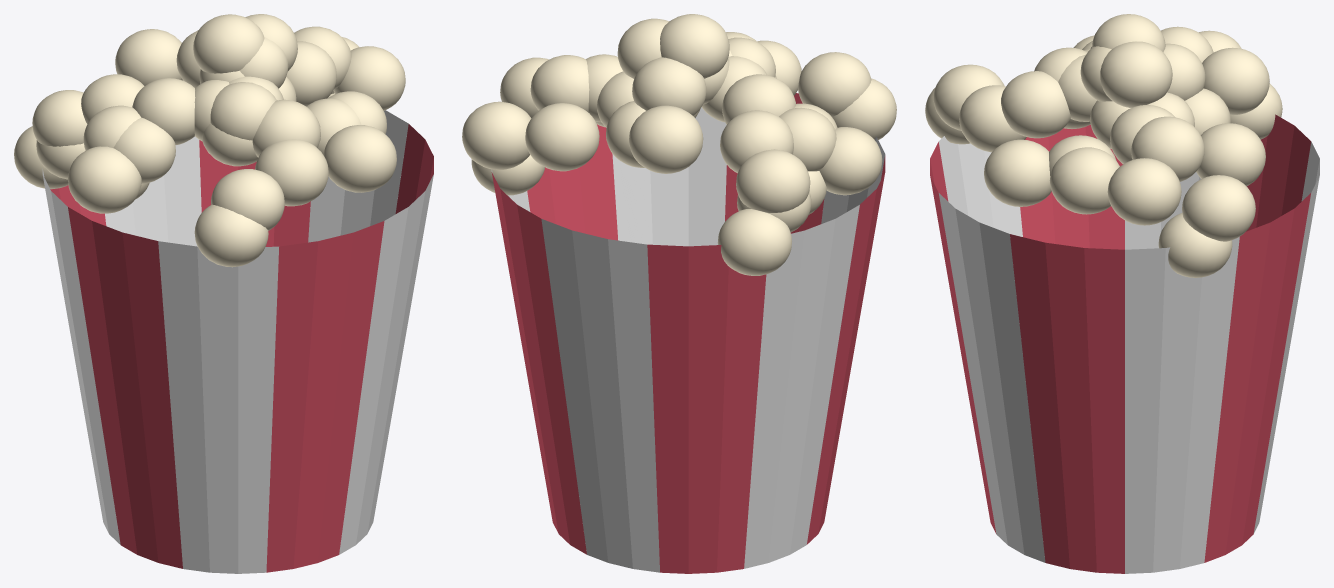
File: deco_balde_crispetas.glb
3 views of the same model, side by side, from view 1: azimuth 30°, elevation 25°; view 2: azimuth 150°, elevation 25°; view 3: azimuth 270°, elevation 25° (orthographic).
Parts seen in each view (by area): view 1: franja balde 6.001, franja balde 7.001, franja balde 5.001, franja balde 8.001, franja balde 4.001, franja balde 2.001, franja balde 0.001, crispeta 10.001, crispeta 27.001, crispeta 12.001, crispeta 8.001, crispeta 14.001 (+24 smaller); view 2: franja balde 3.001, franja balde 2.001, franja balde 4.001, franja balde 1.001, franja balde 8.001, franja balde 5.001, franja balde 9.001, crispeta 9.001, crispeta 3.001, crispeta 23.001, crispeta 29.001, crispeta 15.001 (+22 smaller); view 3: franja balde 9.001, franja balde 0.001, franja balde 8.001, franja balde 1.001, franja balde 5.001, franja balde 3.001, franja balde 6.001, crispeta 6.001, crispeta 2.001, crispeta 15.001, crispeta 10.001, crispeta 18.001 (+24 smaller).
Part boxes in pixels (x1,y1,x2,y2): franja balde 6.001: [158, 241, 278, 573]; franja balde 7.001: [266, 221, 384, 572]; franja balde 5.001: [68, 207, 182, 568]; franja balde 8.001: [339, 175, 433, 554]; franja balde 4.001: [42, 169, 120, 544]; franja balde 2.001: [105, 136, 201, 246]; franja balde 0.001: [308, 110, 408, 242]; crispeta 10.001: [323, 125, 396, 192]; crispeta 27.001: [68, 146, 141, 213]; crispeta 12.001: [255, 139, 328, 206]; crispeta 8.001: [194, 204, 268, 267]; crispeta 14.001: [193, 14, 264, 73]; franja balde 3.001: [647, 244, 766, 573]; franja balde 2.001: [541, 219, 659, 572]; franja balde 4.001: [744, 205, 859, 568]; franja balde 1.001: [491, 172, 586, 554]; franja balde 8.001: [612, 107, 726, 246]; franja balde 5.001: [807, 155, 885, 544]; franja balde 9.001: [527, 124, 618, 240]; crispeta 9.001: [525, 103, 599, 171]; crispeta 3.001: [629, 105, 703, 173]; crispeta 23.001: [717, 209, 791, 275]; crispeta 29.001: [736, 149, 810, 212]; crispeta 15.001: [462, 101, 531, 169]; franja balde 9.001: [1010, 234, 1124, 573]; franja balde 0.001: [1125, 236, 1239, 573]; franja balde 8.001: [938, 193, 1045, 562]; franja balde 1.001: [1204, 193, 1310, 562]; franja balde 5.001: [1020, 125, 1124, 249]; franja balde 3.001: [1246, 114, 1311, 231]; franja balde 6.001: [938, 136, 1022, 236]; crispeta 6.001: [1107, 158, 1181, 225]; crispeta 2.001: [1100, 41, 1172, 107]; crispeta 15.001: [1182, 175, 1255, 241]; crispeta 10.001: [984, 139, 1051, 206]; crispeta 18.001: [1001, 71, 1070, 138].
Size of the model in its own units: 0.2098 by 0.2837 by 0.2045.
